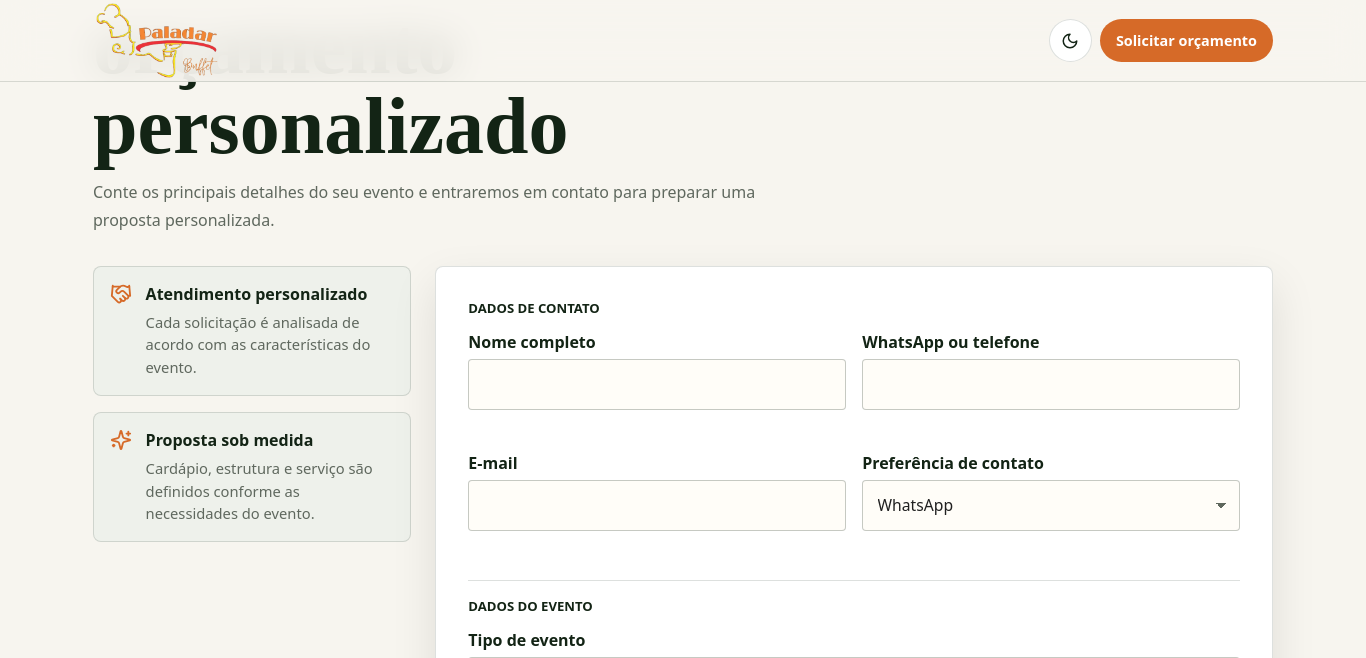
it: QuotePage › submits a valid quote request and shows a neutral confirmation
(page scrolled)
In the field labelled "Nome completo": (657, 385) left=468, top=359, right=846, bottom=410, type "Andre Vinicius"
In the field labelled "WhatsApp ou telefone": (1051, 385) left=862, top=359, right=1240, bottom=410, type "(61) 98416-3455"
(page scrolled)
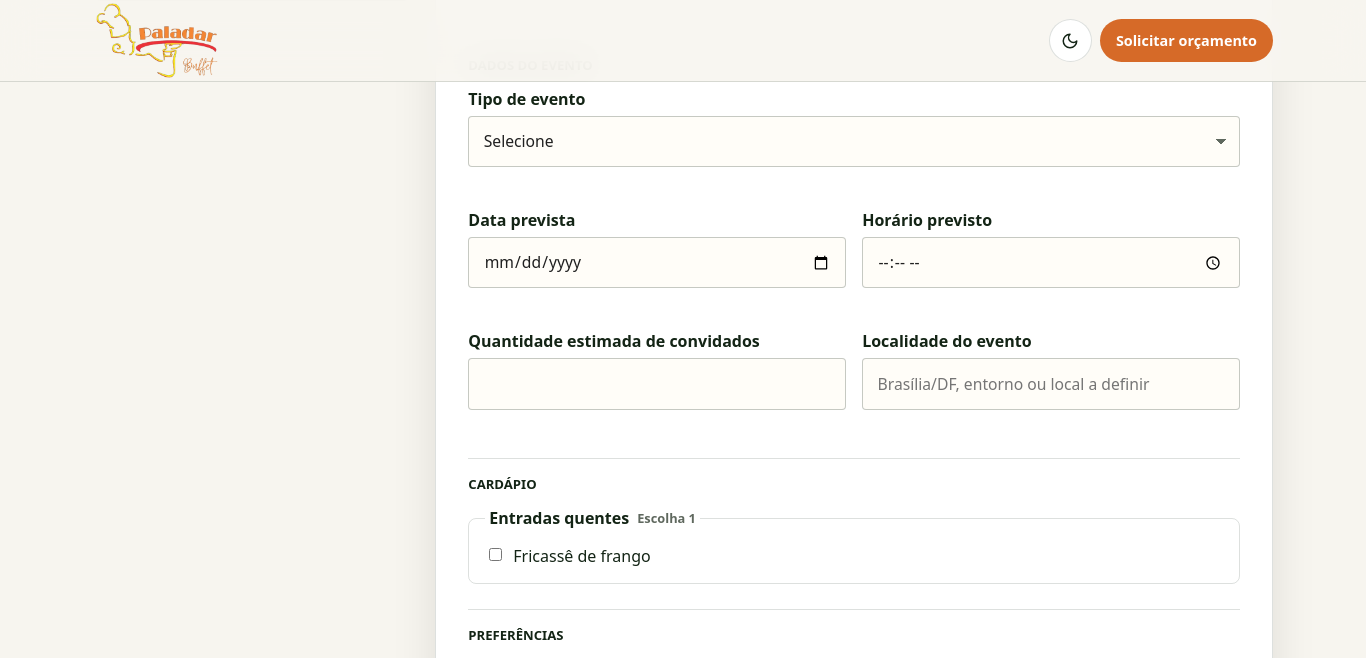
In the number field labelled "Quantidade estimada de convidados": (657, 384) left=468, top=358, right=846, bottom=410, type "120"
In the time field labelled "Horário previsto": (1051, 263) left=862, top=237, right=1240, bottom=288, type "19:30"
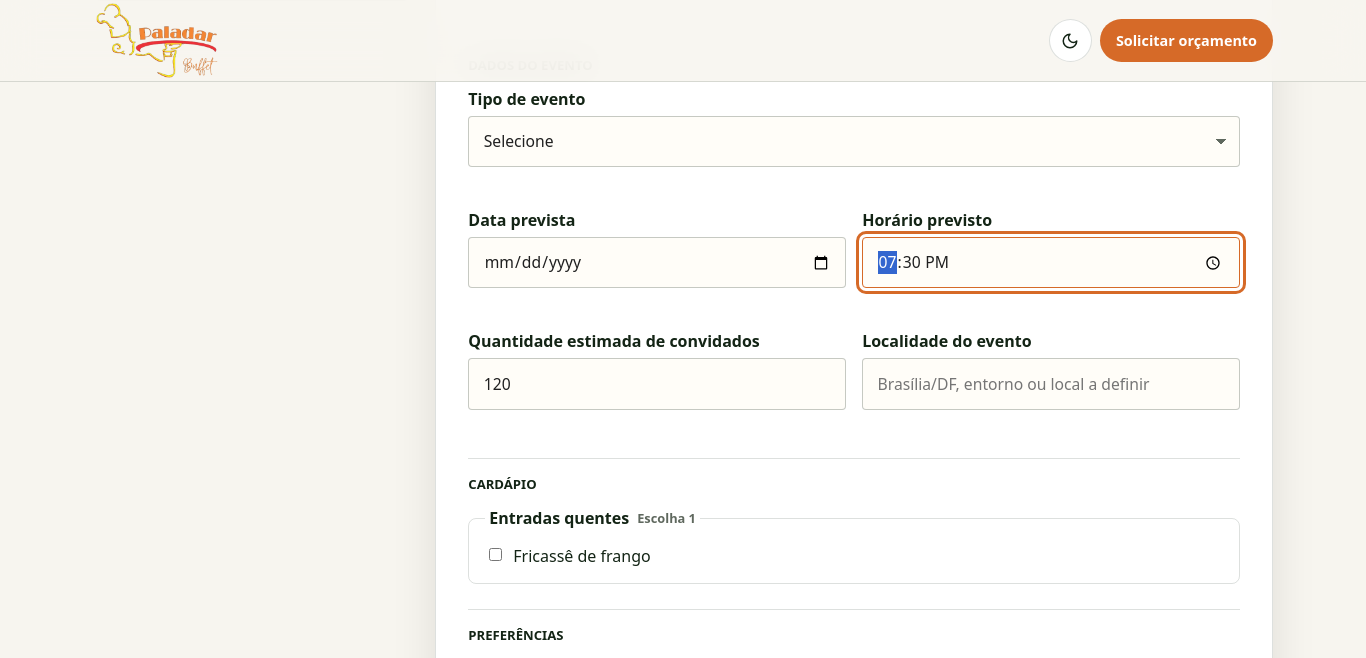
Select "Casamento" in the dropdown labelled "Tipo de evento": (854, 142) left=468, top=116, right=1240, bottom=167
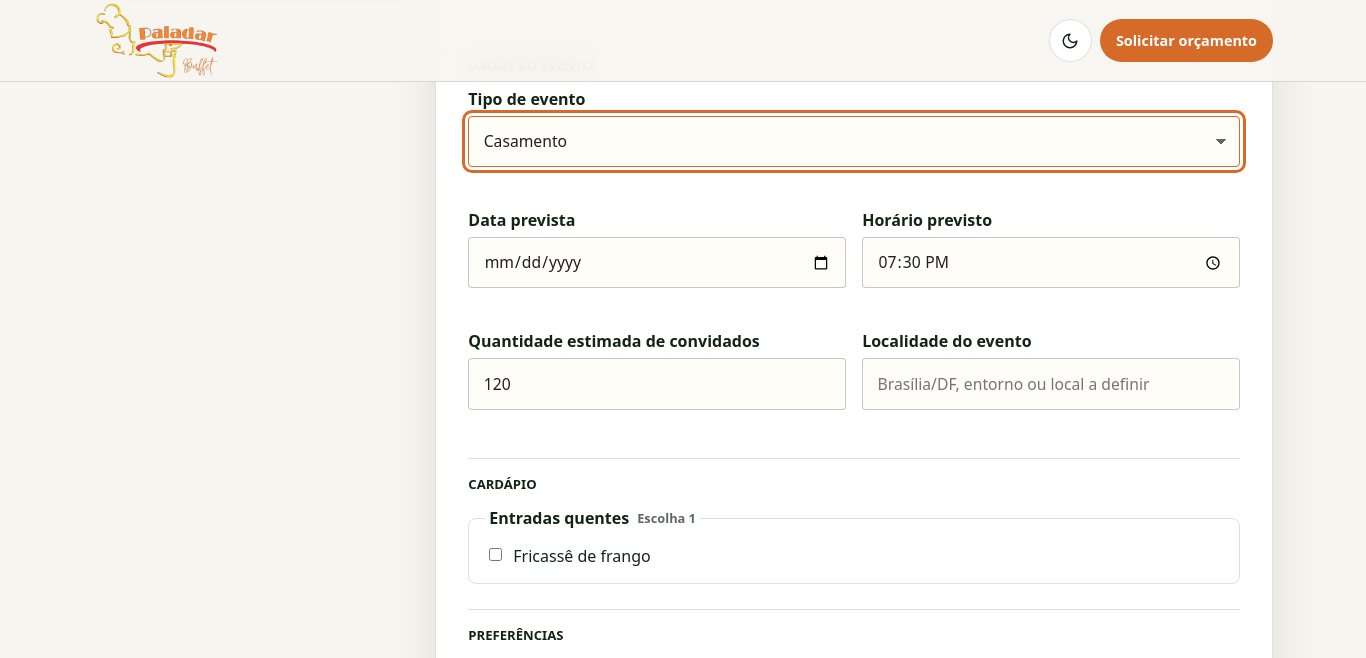
Click the checkbox labelled "Fricassê de frango": (496, 555) left=489, top=548, right=502, bottom=561
(page scrolled)
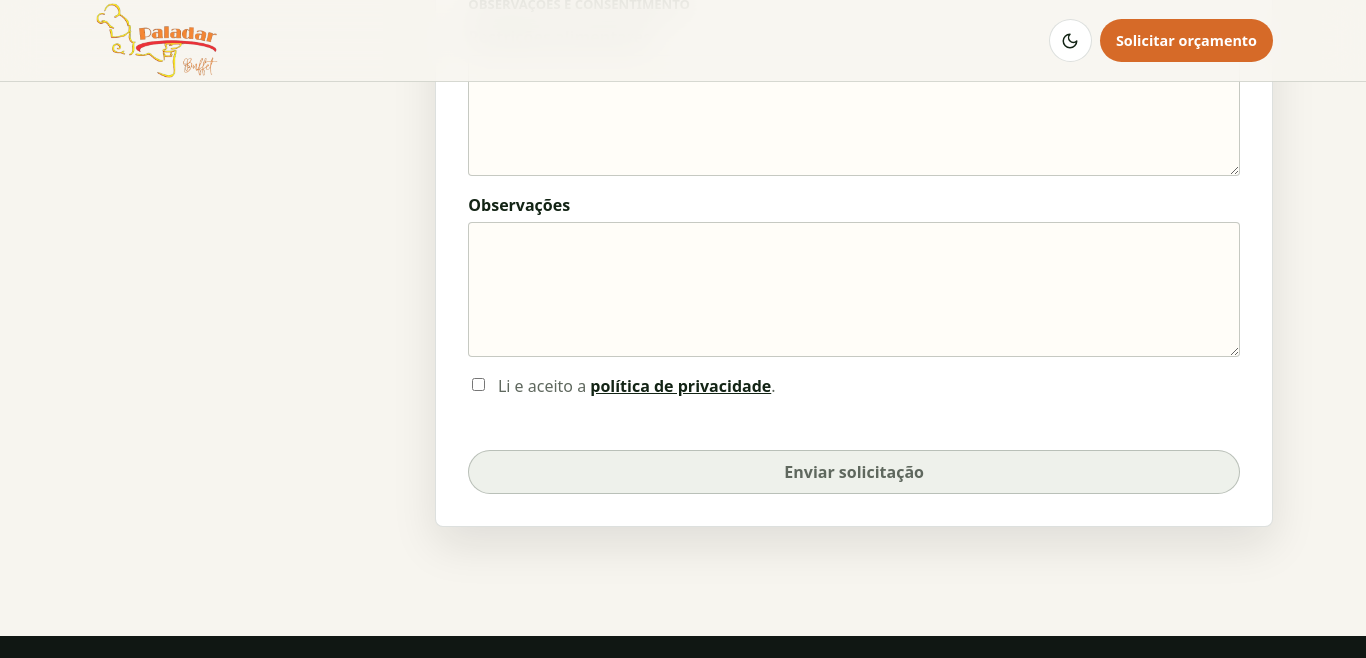
Click the checkbox labelled "Li e aceito a política de privacidade .": (479, 384) left=472, top=378, right=485, bottom=391
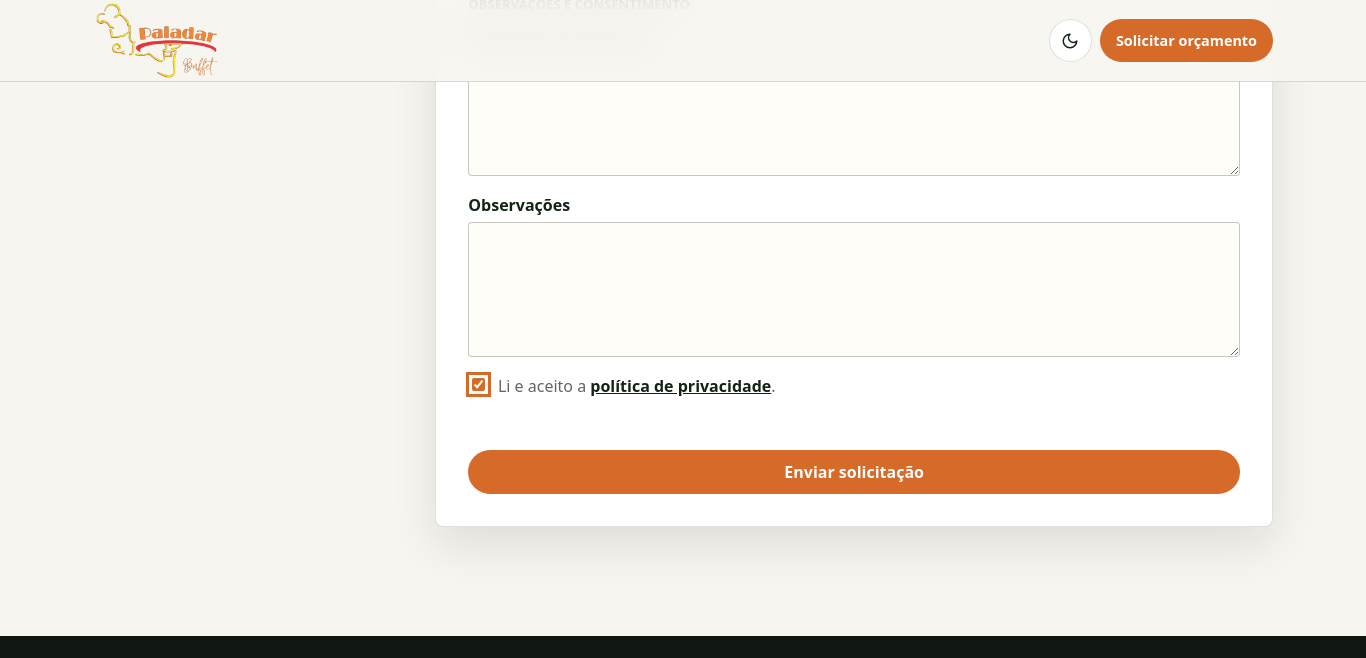
Click the button "Enviar solicitação": (854, 472) left=468, top=450, right=1240, bottom=494
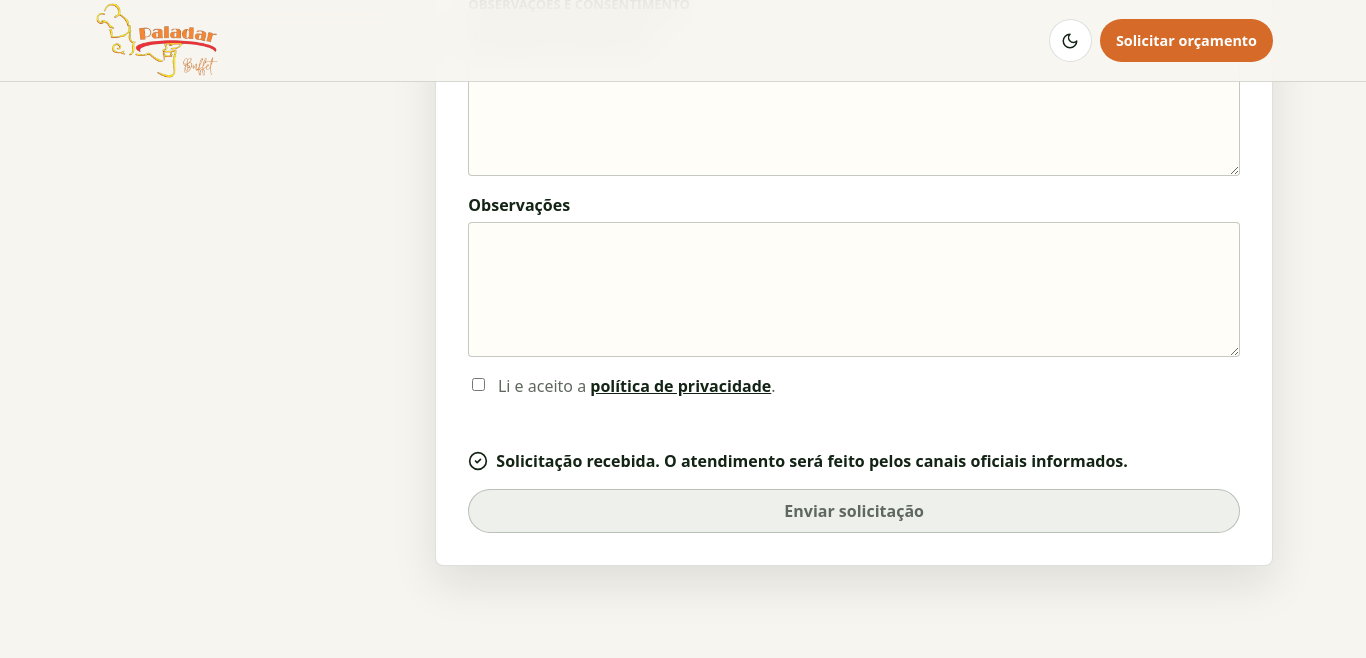
Check: the text "Solicitação recebida" is shown, box left=496, top=450, right=1128, bottom=472
